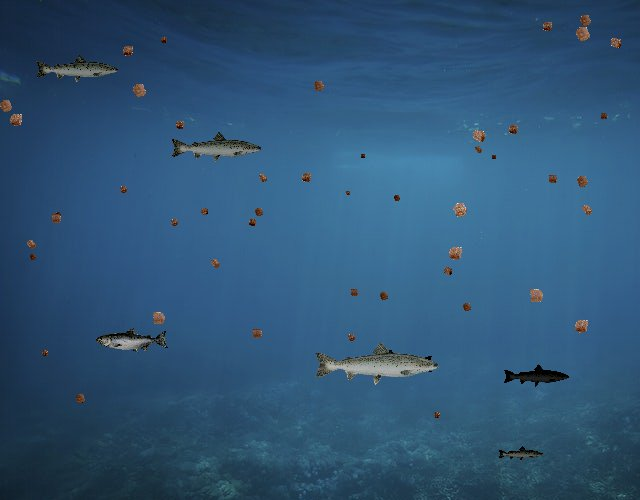Fish: (312, 340, 441, 386), (169, 130, 263, 164), (34, 53, 120, 84), (353, 349, 434, 378), (97, 327, 170, 354), (502, 364, 570, 388), (497, 446, 544, 463)
Pellet: (441, 239, 470, 268), (567, 312, 595, 340), (465, 123, 492, 150), (570, 169, 594, 193), (296, 167, 317, 188), (457, 297, 476, 316), (343, 329, 360, 346), (38, 346, 52, 360)
